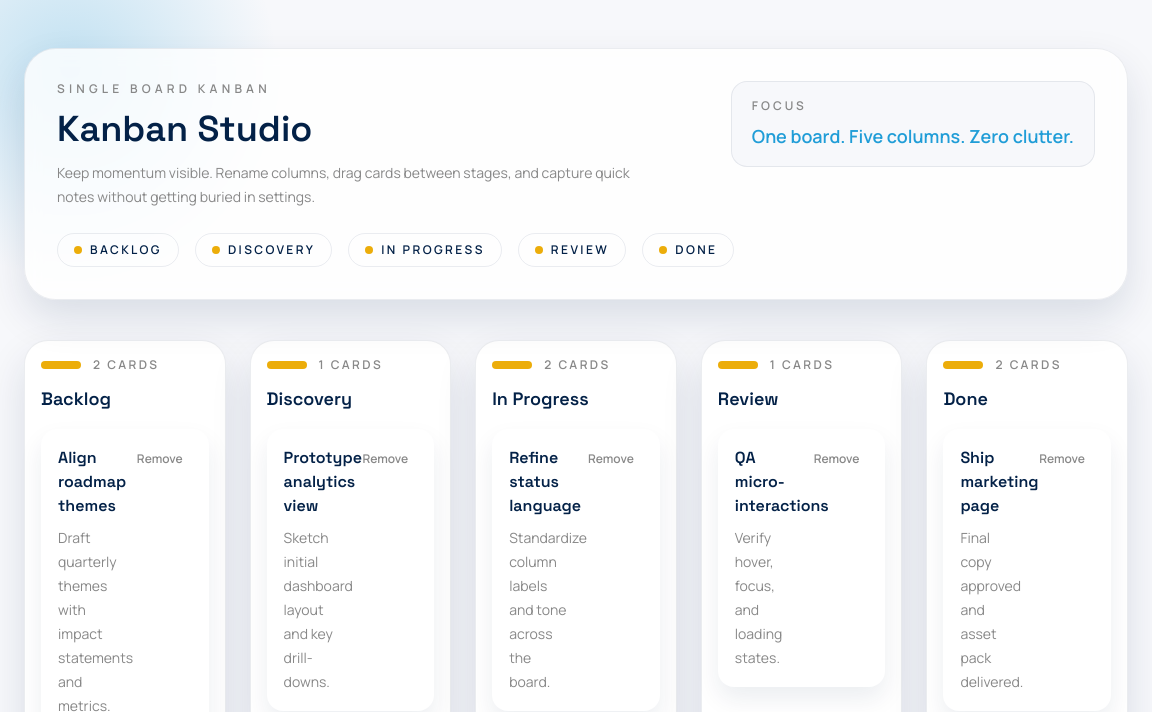
Scenario: KanbanBoard › cancels a card edit on Escape
The width and height of the screenshot is (1152, 712).
Click the heading "Align roadmap themes" at point(87, 482), box left=58, top=446, right=116, bottom=518
(page scrolled)
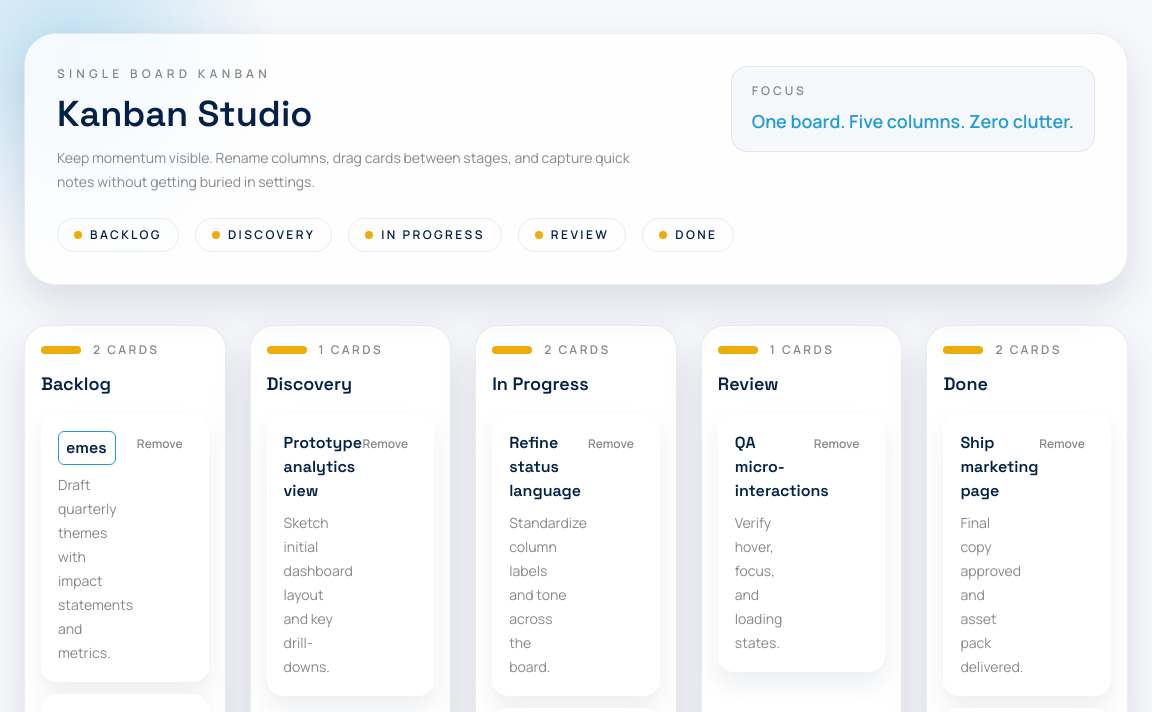
Replace the text in the field named "Card title" with "Nope" at point(87, 448), box left=58, top=431, right=116, bottom=465
Then press Escape
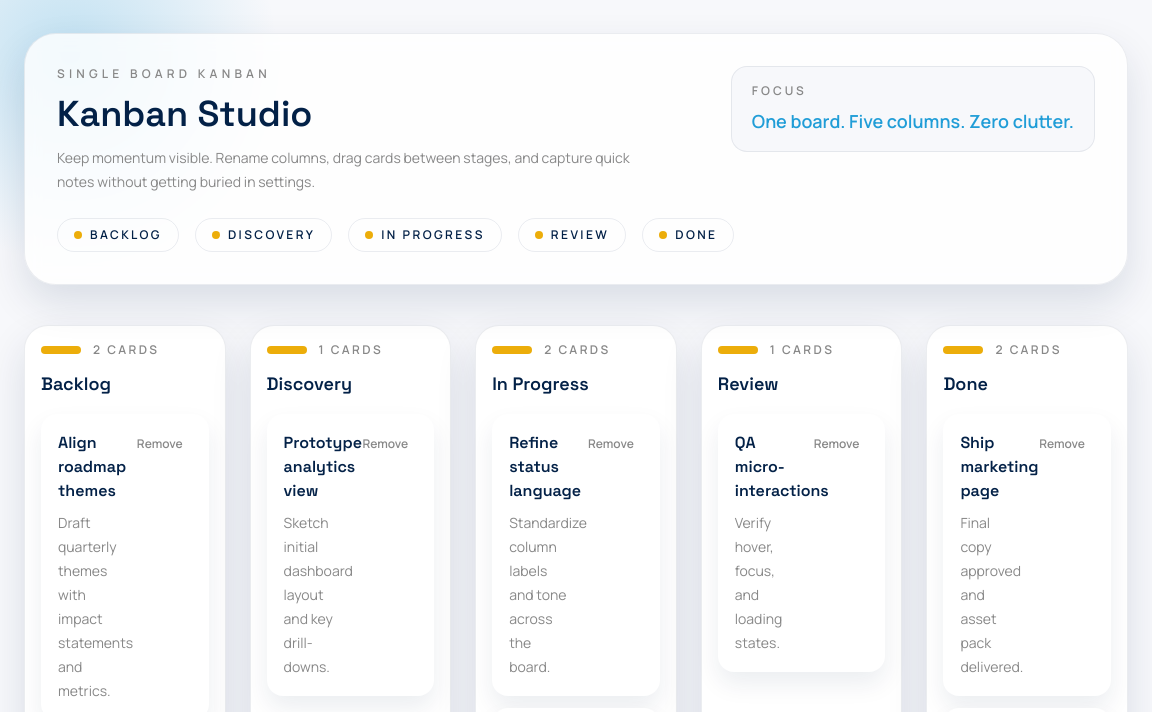
Check: the heading "Align roadmap themes" is shown, box left=58, top=431, right=116, bottom=503
